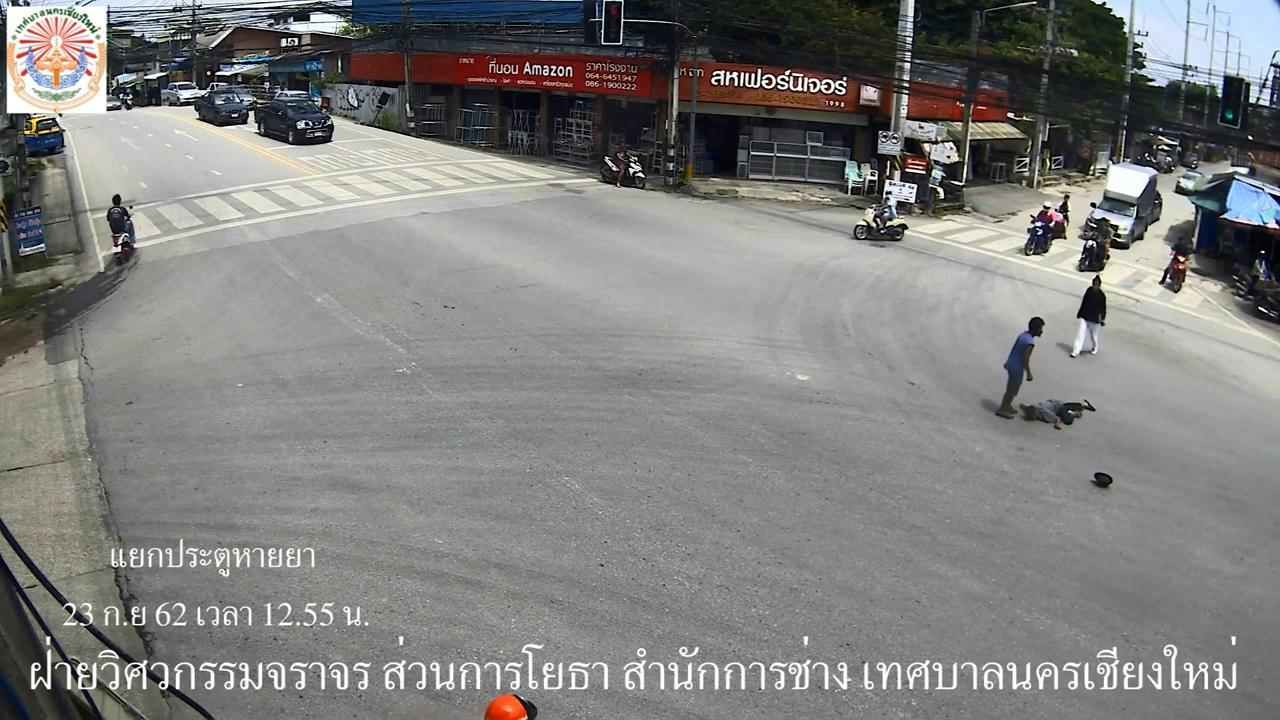accident: (1018, 392, 1099, 434)
